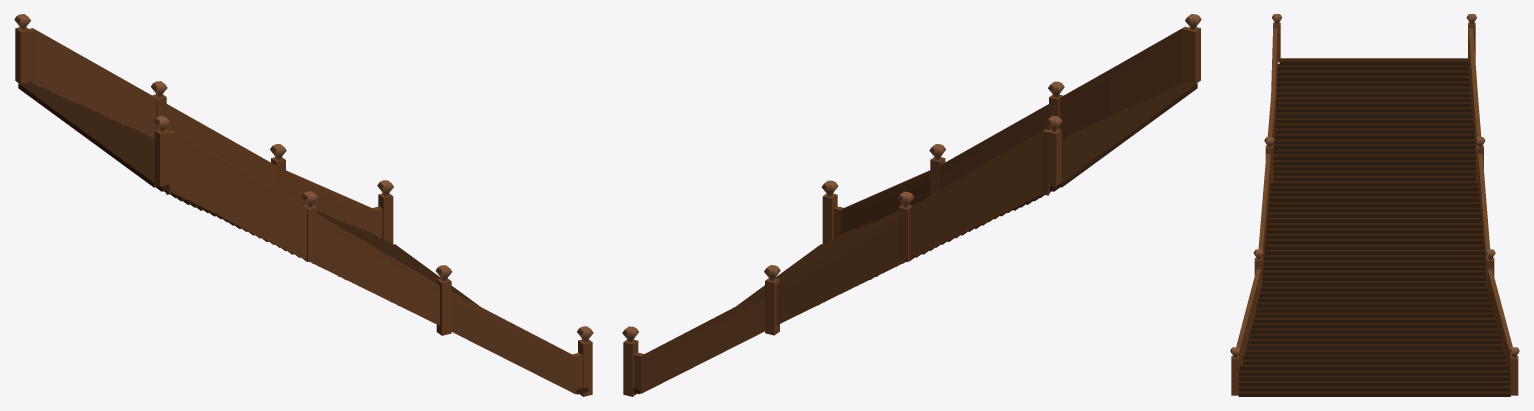
The model's file is staircase.fbx.
The picture shows the model from 3 angles, left to right: view 1: azimuth 30°, elevation 25°; view 2: azimuth 150°, elevation 25°; view 3: azimuth 270°, elevation 25°; orthographic projection. The views are drawn at different scales.
Parts seen in each view (by area): view 1: pCube84, pCube83, pCube50, pCube77, pCube78, pCube79, pCube82, pCube86, pCube81, pCube80; view 2: pCube83, pCube84, pCube50, pCube78, pCube77, pCube80, pCube81, pCube85, pCube82, pCube79; view 3: pCube83, pCube84, pCube13, pCube14, pCube16, pCube20, pCube19, pCube17, pCube18, pCube28, pCube27, pCube50 (+57 smaller).
Boxes of the visible parts, <box> form: pCube84: <box>166,130,582,394</box>; pCube83: <box>29,28,382,238</box>; pCube50: <box>18,81,158,187</box>; pCube77: <box>153,116,170,186</box>; pCube78: <box>14,14,30,83</box>; pCube79: <box>435,265,452,335</box>; pCube82: <box>577,326,593,396</box>; pCube86: <box>301,191,317,261</box>; pCube81: <box>377,180,393,243</box>; pCube80: <box>270,144,286,195</box>; pCube83: <box>634,129,1050,393</box>; pCube84: <box>833,26,1188,237</box>; pCube50: <box>1057,81,1197,187</box>; pCube78: <box>1046,116,1062,186</box>; pCube77: <box>1185,14,1201,83</box>; pCube80: <box>764,265,780,335</box>; pCube81: <box>622,326,638,396</box>; pCube85: <box>897,191,914,261</box>; pCube82: <box>821,180,838,243</box>; pCube79: <box>929,144,945,195</box>; pCube83: <box>1468,27,1512,371</box>; pCube84: <box>1236,27,1277,370</box>; pCube13: <box>1238,391,1510,396</box>; pCube14: <box>1239,386,1510,391</box>; pCube16: <box>1239,375,1510,380</box>; pCube20: <box>1239,370,1510,375</box>; pCube19: <box>1239,363,1509,370</box>; pCube17: <box>1243,359,1506,364</box>; pCube18: <box>1243,353,1506,359</box>; pCube28: <box>1245,348,1503,354</box>; pCube27: <box>1247,343,1501,349</box>; pCube50: <box>1279,58,1468,65</box>.
Size of the model in its own units: 20.97 by 17.28 by 18.51.
